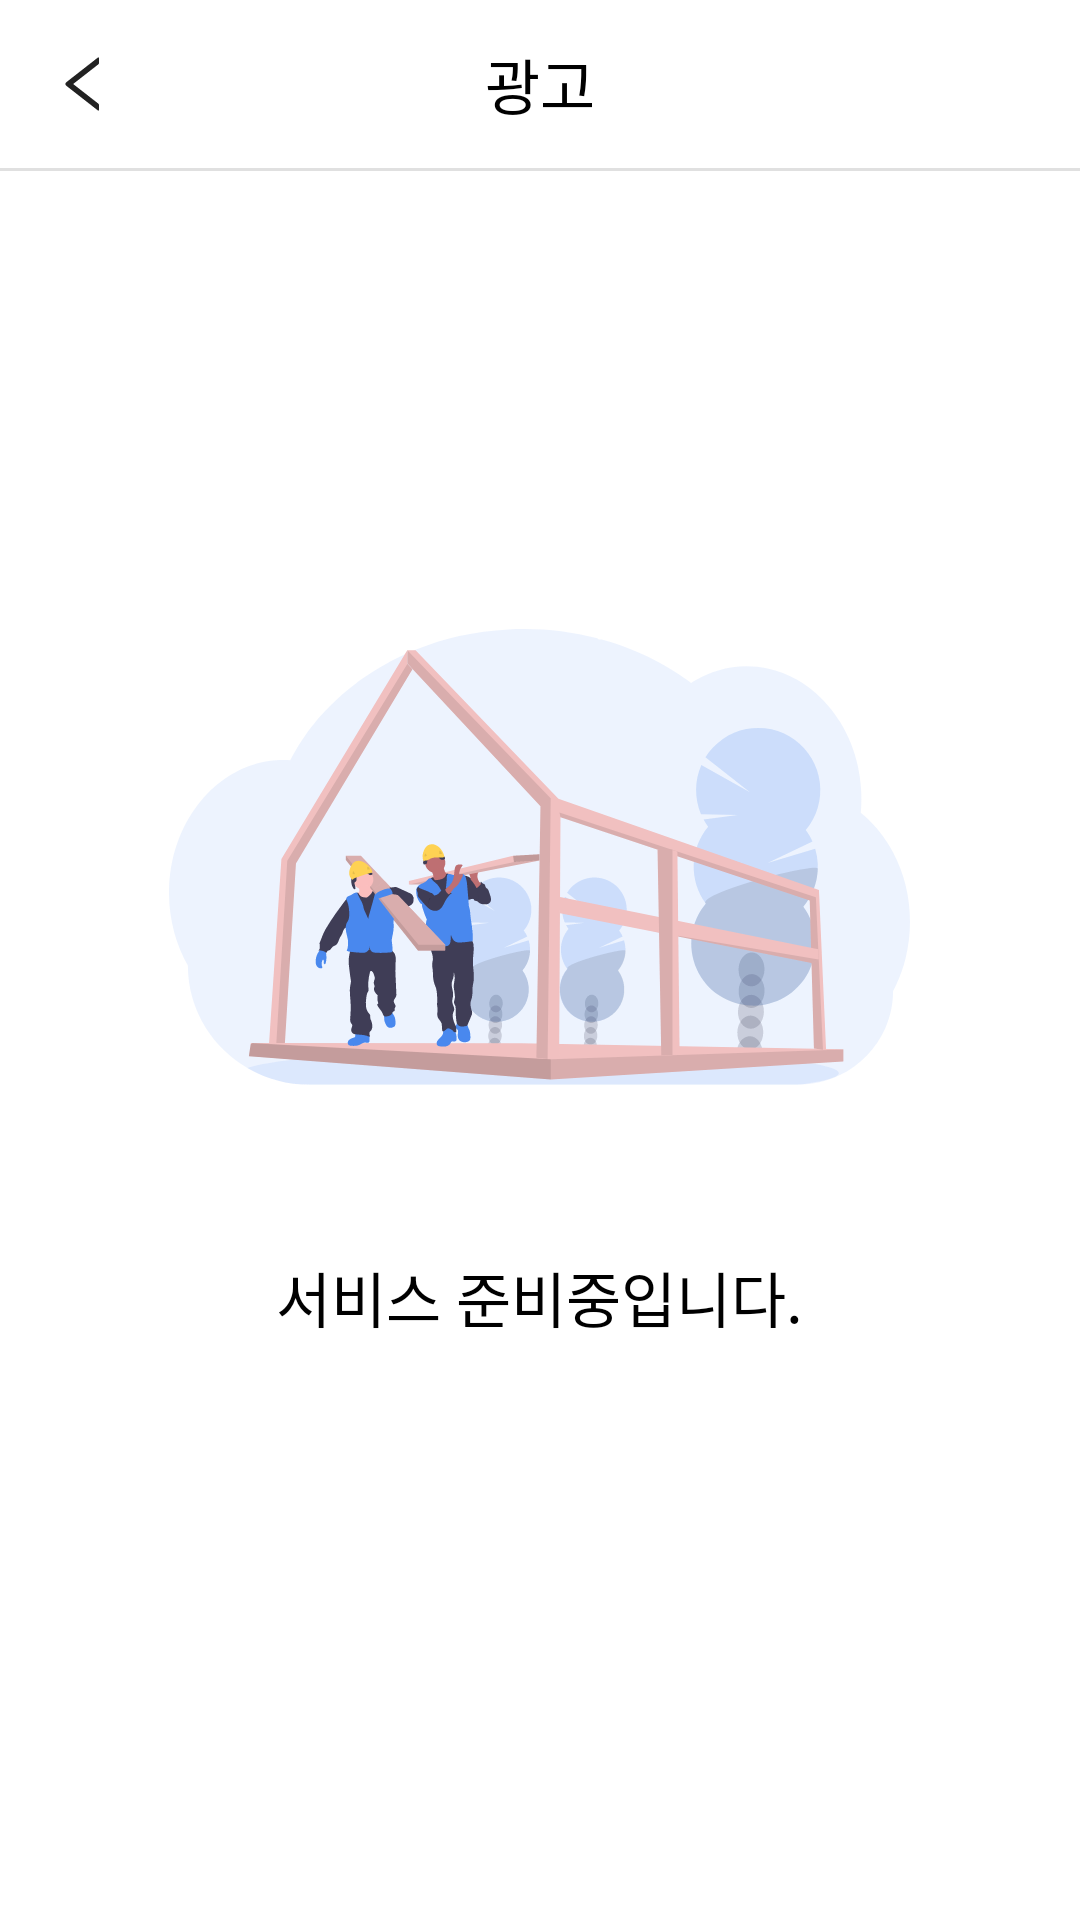

Where to tap for icons on this 1080px x 1920px app screen, as point (x, y):
go back: point (82, 84)
